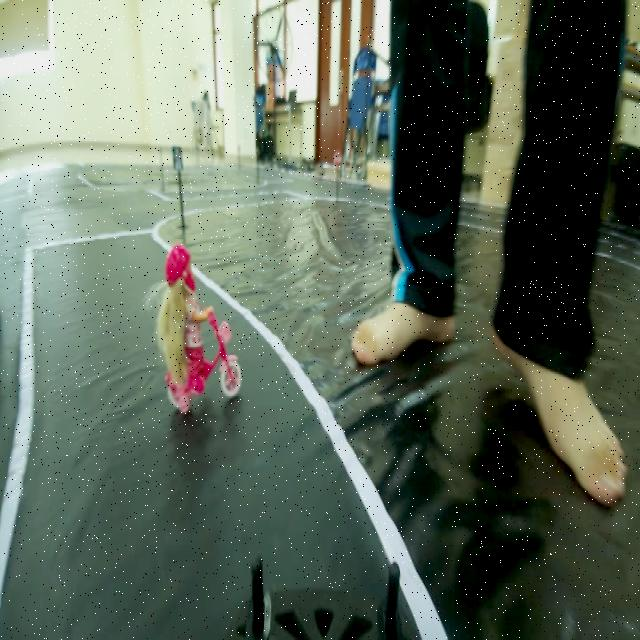pedestrian: (143, 252, 245, 415)
